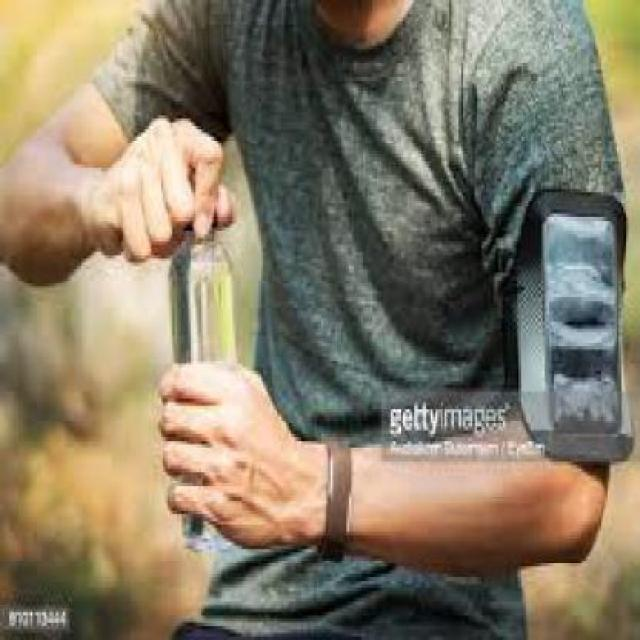Drinking: (174, 182, 260, 566)
